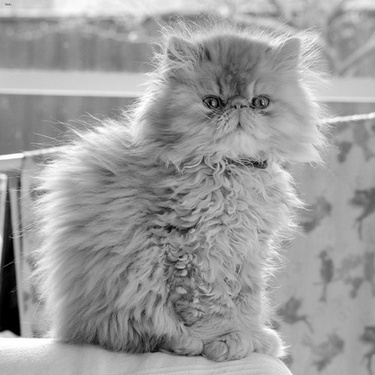cat: (34, 29, 316, 363)
